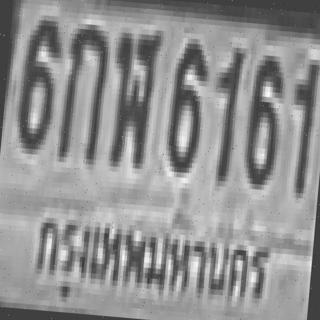A01: (56, 18, 108, 160)
A42: (106, 24, 159, 162)
N01: (283, 53, 318, 193), (208, 44, 242, 179)
N06: (13, 13, 61, 150), (162, 37, 208, 168), (242, 49, 283, 186)
P04: (20, 196, 276, 320)
